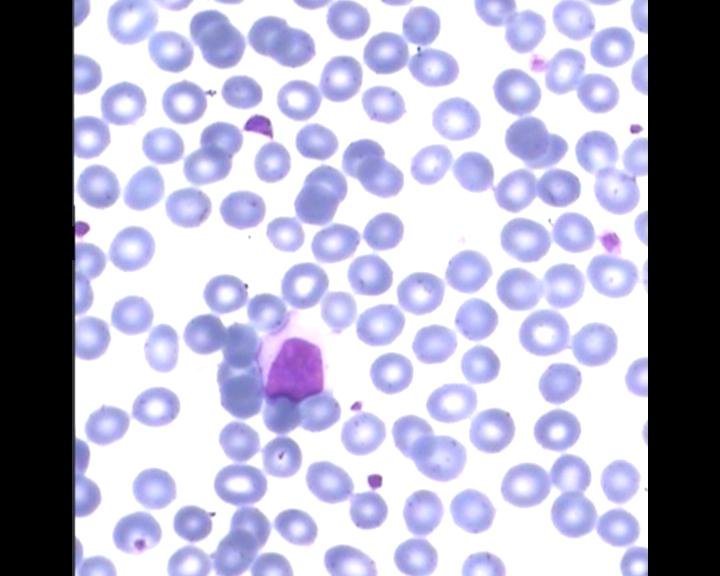mono: (251, 297, 331, 404)
